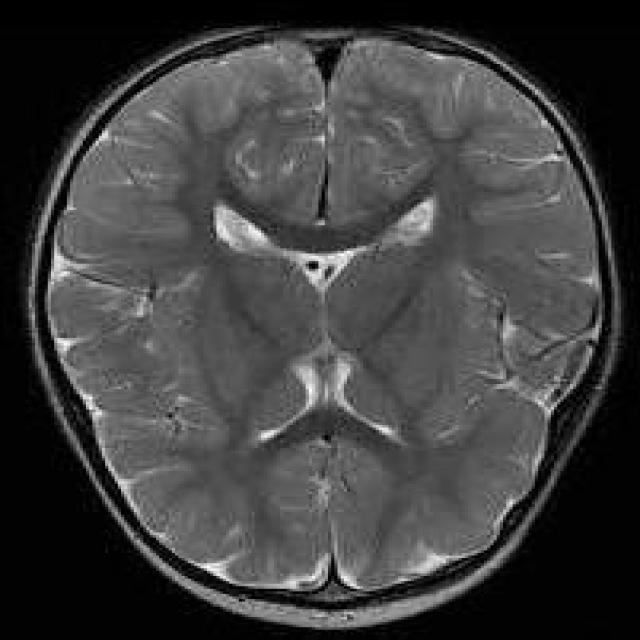notumor: (22, 28, 624, 627)
